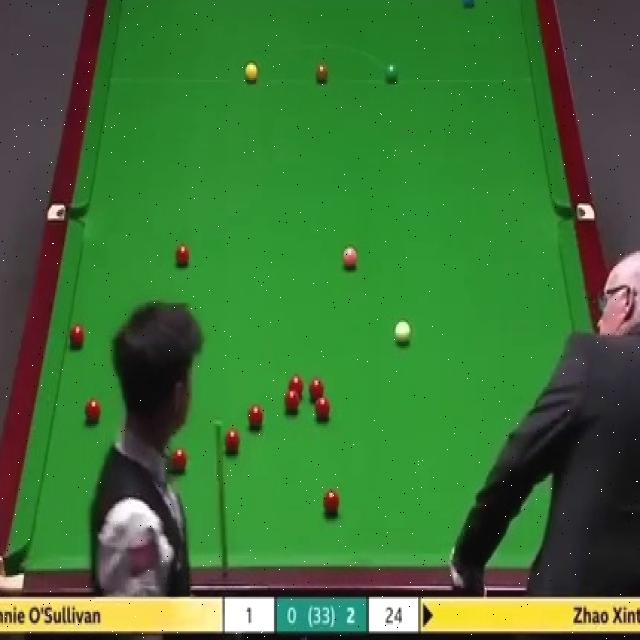blue-ball: (460, 0, 476, 11)
brown-ball: (315, 64, 329, 86)
green-ball: (384, 63, 399, 86)
pink-ball: (342, 244, 359, 272)
red-ball: (82, 394, 102, 427), (223, 429, 242, 459), (170, 446, 188, 475), (322, 490, 340, 519), (283, 390, 301, 415), (248, 406, 265, 432), (68, 323, 84, 350), (174, 241, 190, 267), (286, 375, 304, 397), (315, 396, 331, 420), (308, 378, 325, 399)
white-ball: (392, 317, 414, 347)
yellow-ball: (244, 62, 259, 85)
